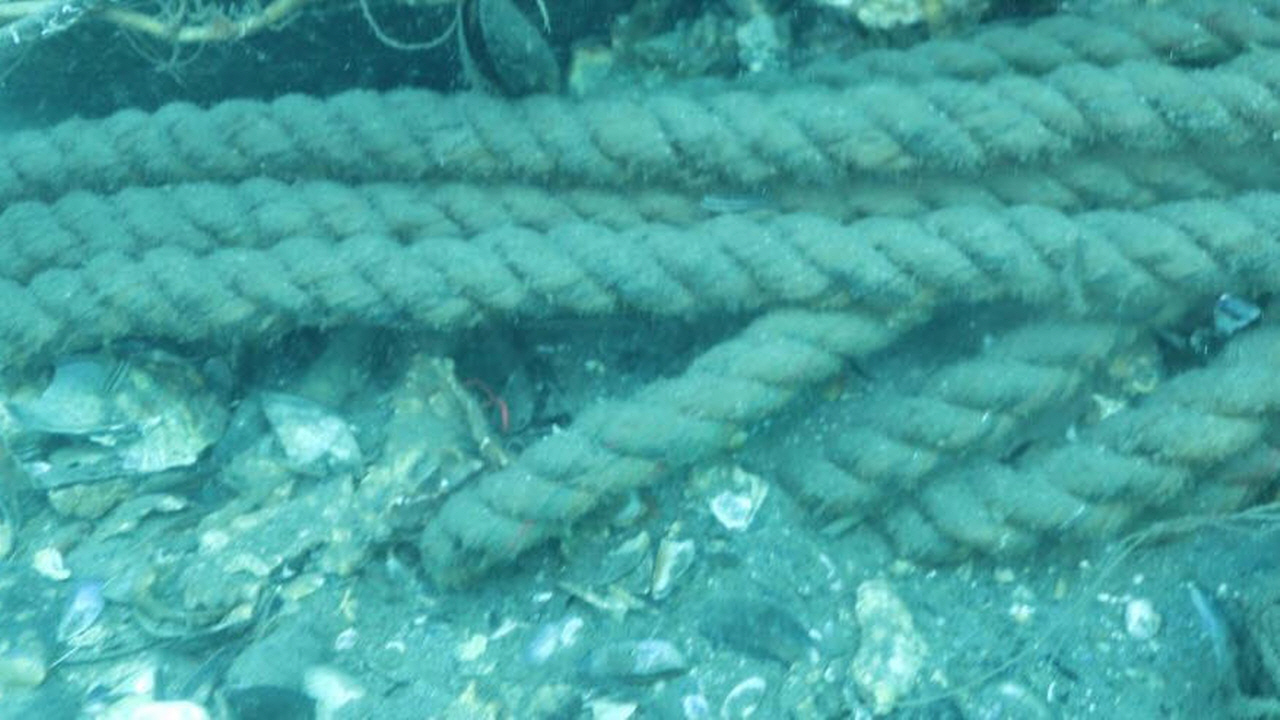bundle of ropes: (0, 0, 1279, 589)
